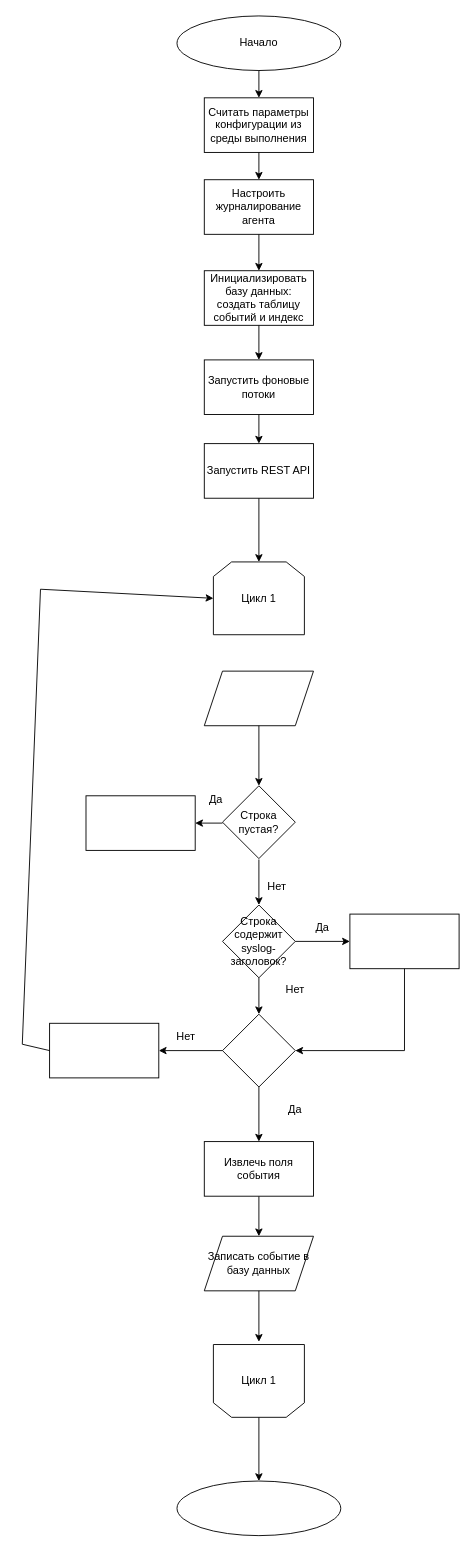
This 475x1552 diagram has some shape labels left out. Each missing label, with the box of its shape:
Конец: (176, 1480, 341, 1536)
Пауза/Ожидание новых данных: (85, 795, 195, 850)
Получить строку из источника: (203, 670, 313, 726)
Сделать отладочную запись в журнал агента: (49, 1022, 159, 1078)
Строка соответствует шаблону формата журнала?: (222, 1013, 295, 1087)
Удалить syslog-заголовок, оставить содержательную часть: (349, 913, 459, 969)
